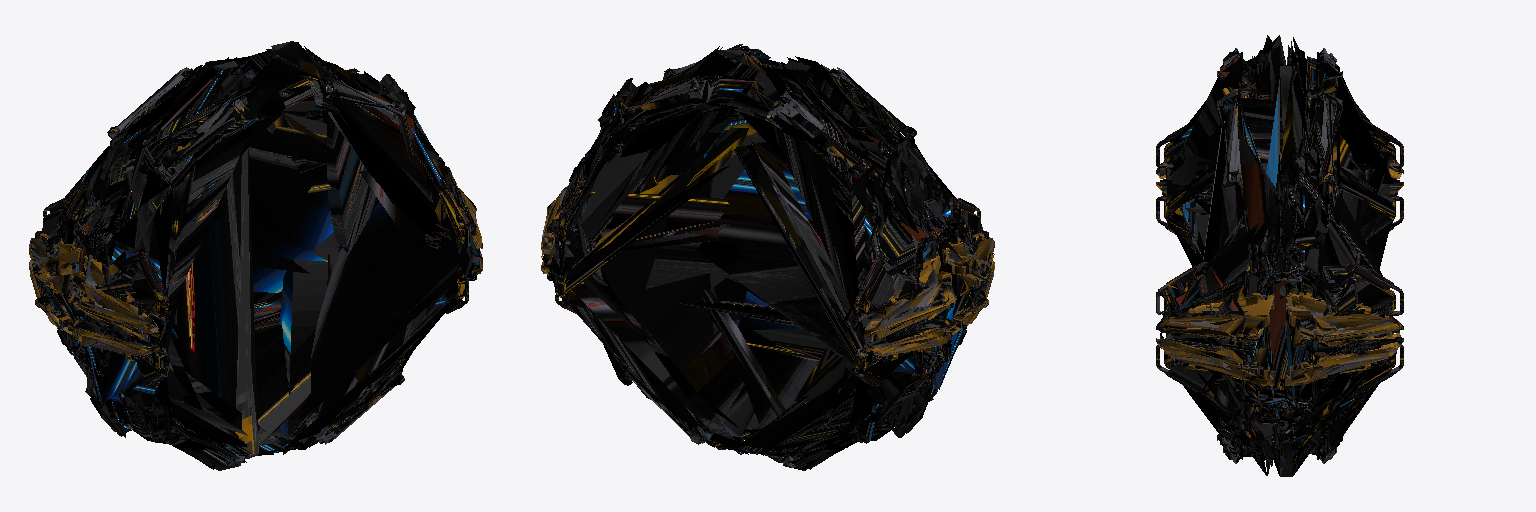
3 renders of one model, left to right at view 1: azimuth 30°, elevation 25°; view 2: azimuth 150°, elevation 25°; view 3: azimuth 270°, elevation 25°, orthographic.
Visible parts, largest first — view 1: Heavy_JumpGate_JG4; view 2: Heavy_JumpGate_JG4; view 3: Heavy_JumpGate_JG4.
Boxes of the visible parts, x1=… form: Heavy_JumpGate_JG4: x1=29, y1=41, x2=482, y2=470; Heavy_JumpGate_JG4: x1=541, y1=44, x2=994, y2=470; Heavy_JumpGate_JG4: x1=1156, y1=35, x2=1403, y2=476.
Size of the model in its own units: 6916 by 6612 by 3714.
Materials: 1 (1 with a texture image).